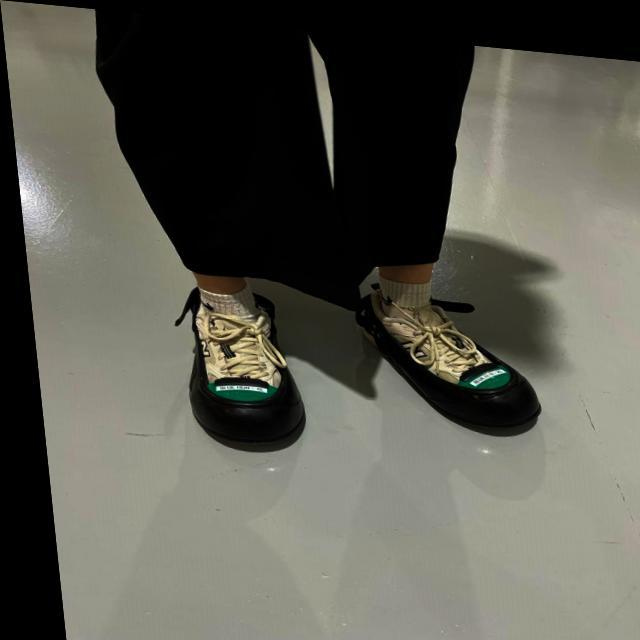shoes: (351, 275, 555, 443), (175, 280, 312, 452)
